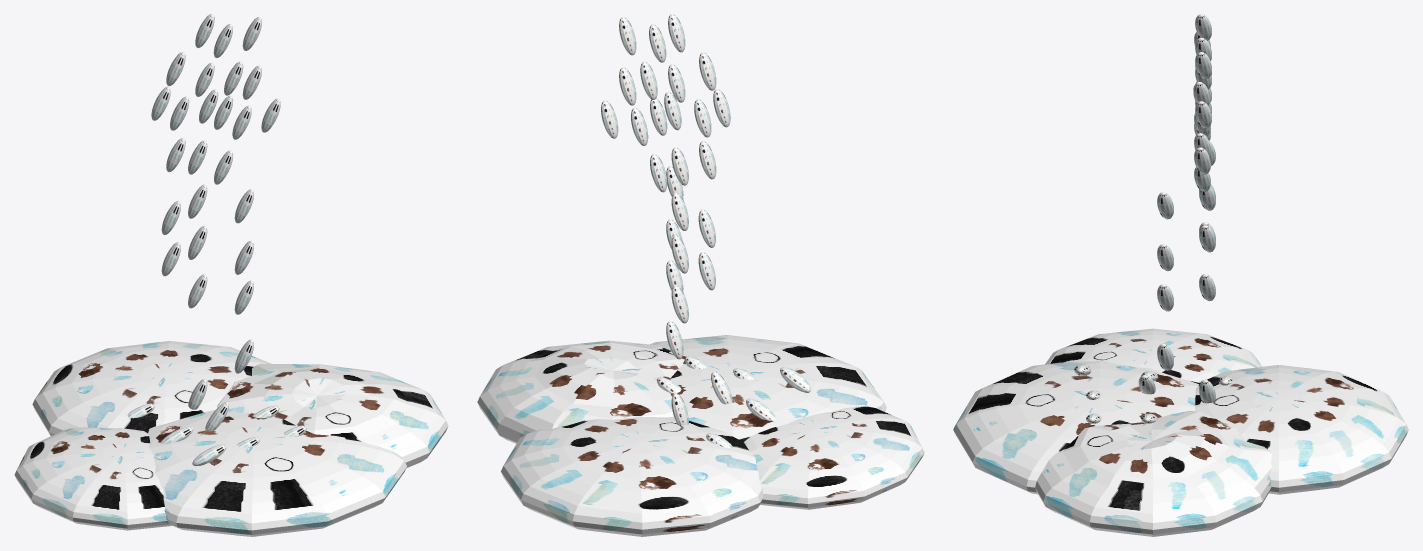
File: paso 5 arroz con coco  - copia.fbx
3 views of the same model, side by side, from view 1: azimuth 30°, elevation 25°; view 2: azimuth 150°, elevation 25°; view 3: azimuth 270°, elevation 25° (orthographic). The views are drawn at different scales.
Parts seen in each view (by area): view 1: relleno, arroz; view 2: relleno, arroz; view 3: relleno, arroz.
Part boxes in pixels (box(x1,y1,x2,y2)): relleno: box(14, 341, 448, 536); arroz: box(127, 14, 306, 466); relleno: box(477, 335, 924, 536); arroz: box(601, 14, 810, 447); relleno: box(953, 328, 1408, 536); arroz: box(1074, 14, 1233, 423).
Bounding box in the file's own units: 207 × 219 × 202.
